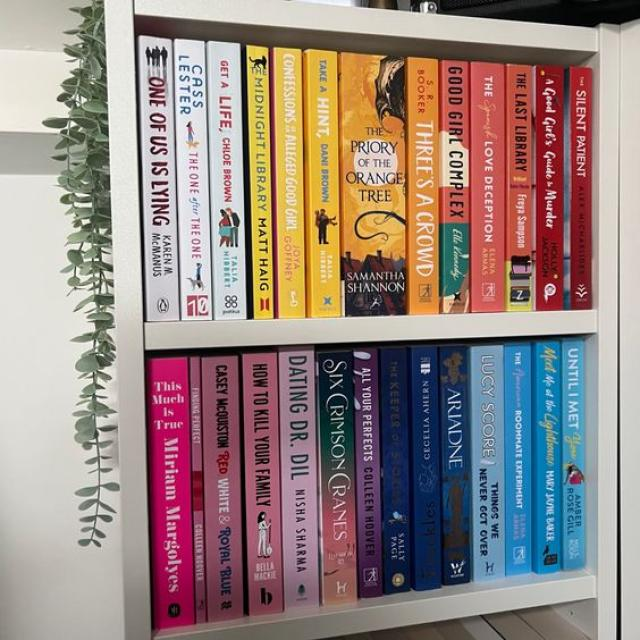book: (339, 54, 407, 316), (144, 357, 196, 629), (137, 34, 180, 321), (201, 357, 243, 622), (243, 353, 284, 615), (174, 39, 212, 320), (208, 42, 246, 319), (279, 350, 319, 610), (318, 351, 358, 606), (471, 62, 506, 313), (308, 50, 340, 317), (471, 346, 506, 582), (408, 57, 439, 314), (276, 47, 305, 319), (246, 45, 274, 319), (412, 345, 443, 592), (381, 347, 411, 595), (506, 65, 536, 310), (353, 350, 382, 598), (536, 65, 565, 311), (441, 61, 469, 314), (440, 344, 469, 588), (504, 345, 532, 576), (536, 342, 562, 573), (570, 67, 592, 310), (562, 340, 584, 570), (190, 357, 207, 623)
